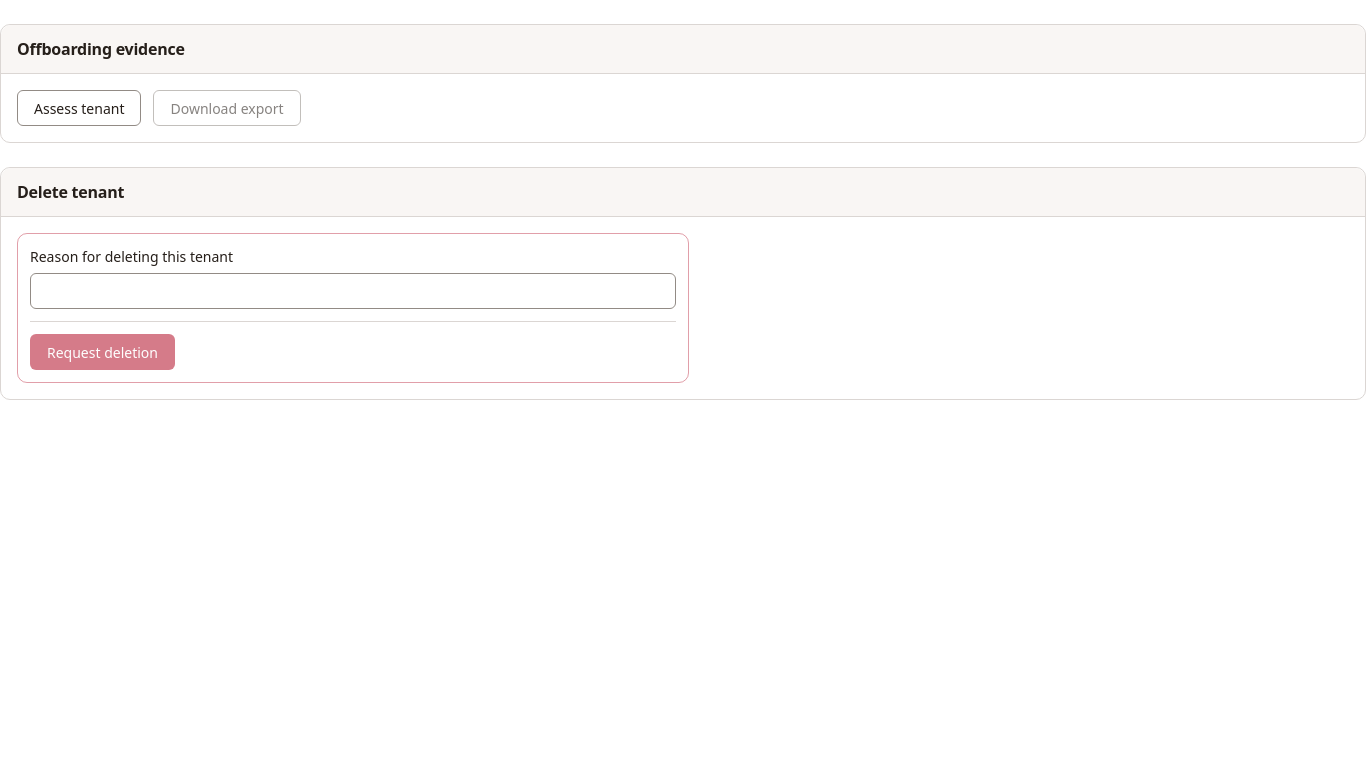
Test: TenantDeletionTab › offers a request only after an assessment, an export, and a substantive reason
The width and height of the screenshot is (1366, 768).
Expected: the button "Request deletion" is disabled, [30,334,175,370]
Click the button "Assess tenant" at (79,108), box [17,90,142,126]
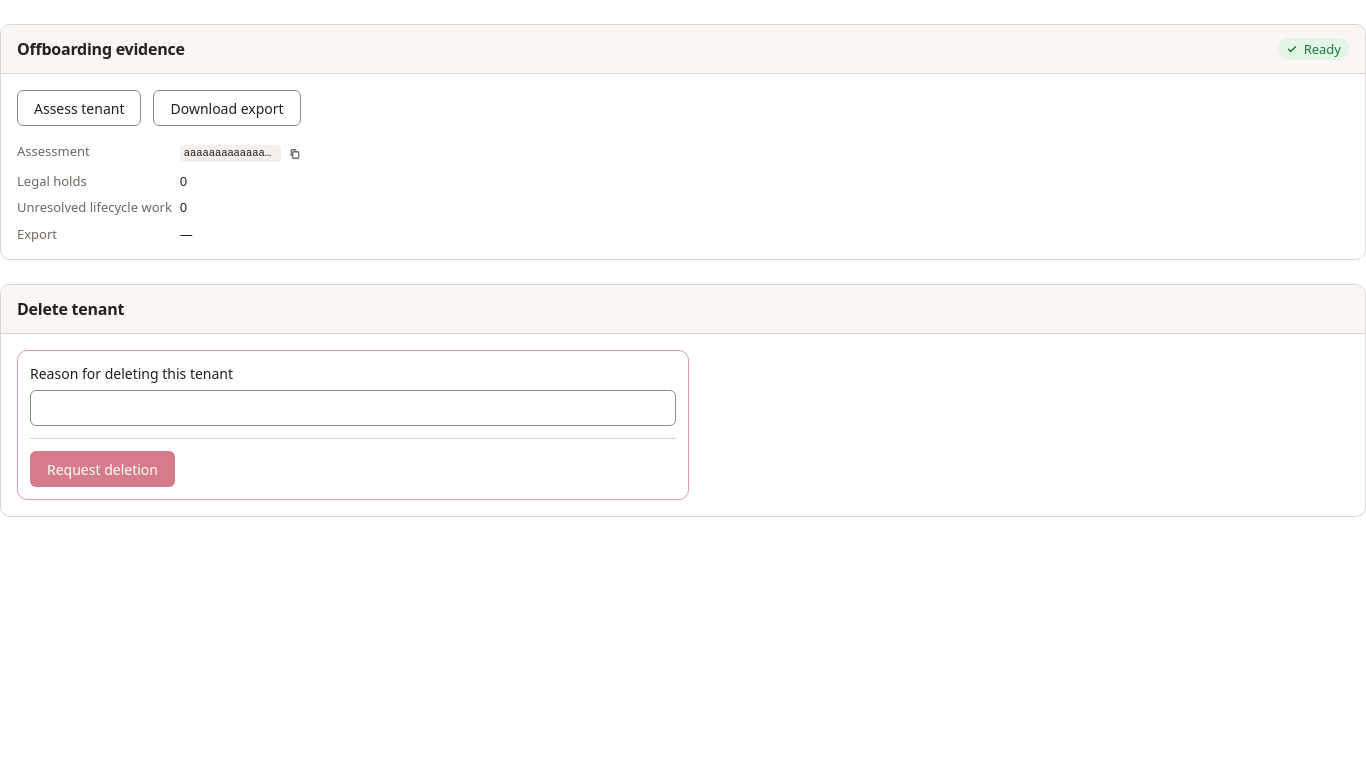
Now the text "Ready" is shown, box [1278,38,1349,60]
Click the button "Download export" at (227,108), box [154,90,301,126]
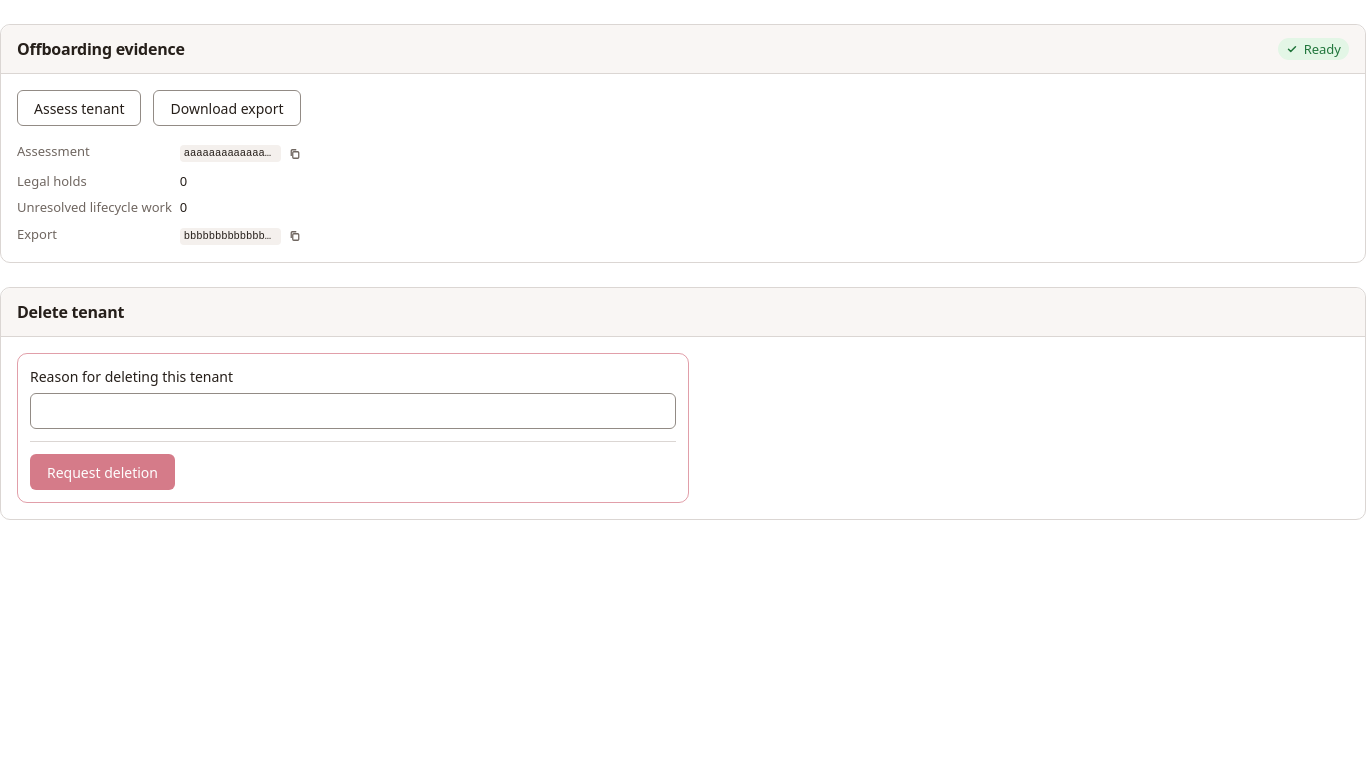
Type "too short" into the field labelled "Reason for deleting this tenant" at (353,411), box [30,393,676,429]
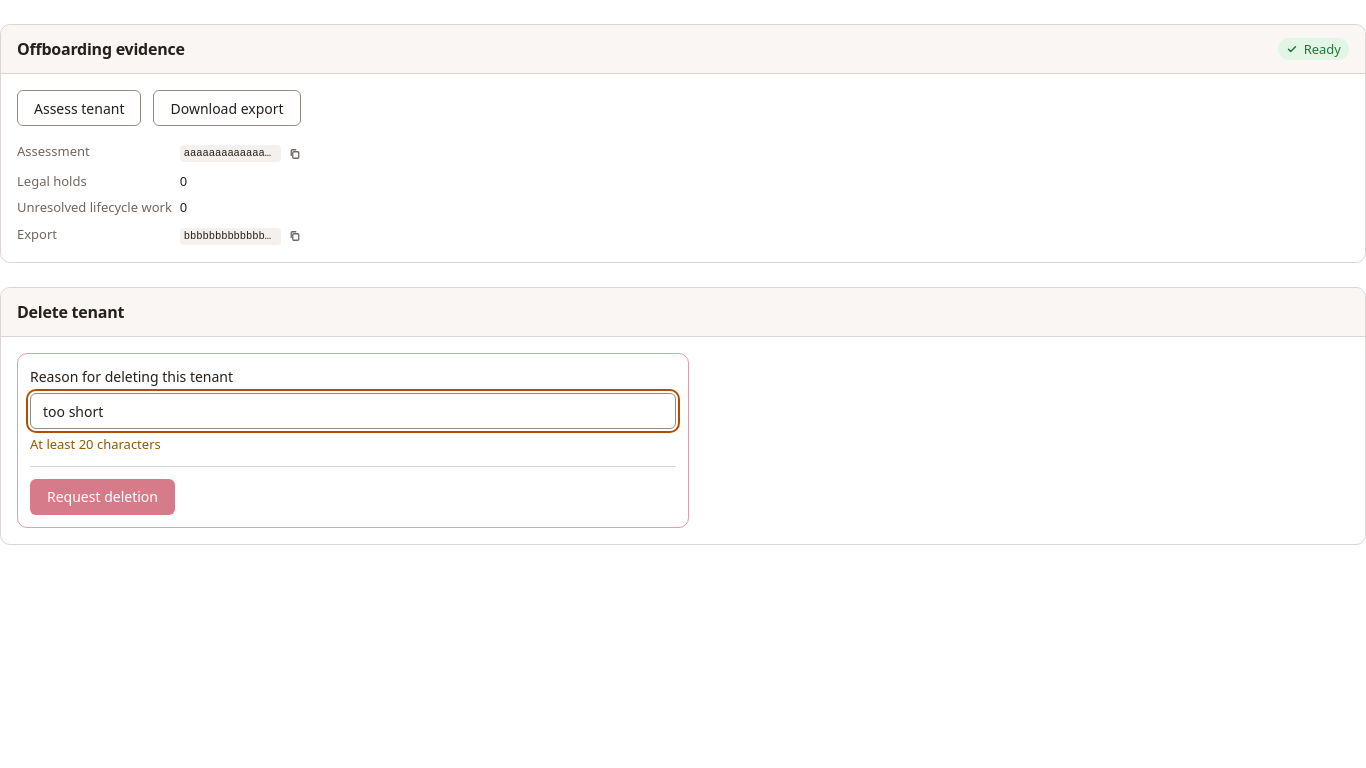
Expected: the button "Request deletion" is disabled, [30,479,175,515]
Type " - contract ended in full" into the field labelled "Reason for deleting this tenant" at (353,411), box [30,393,676,429]
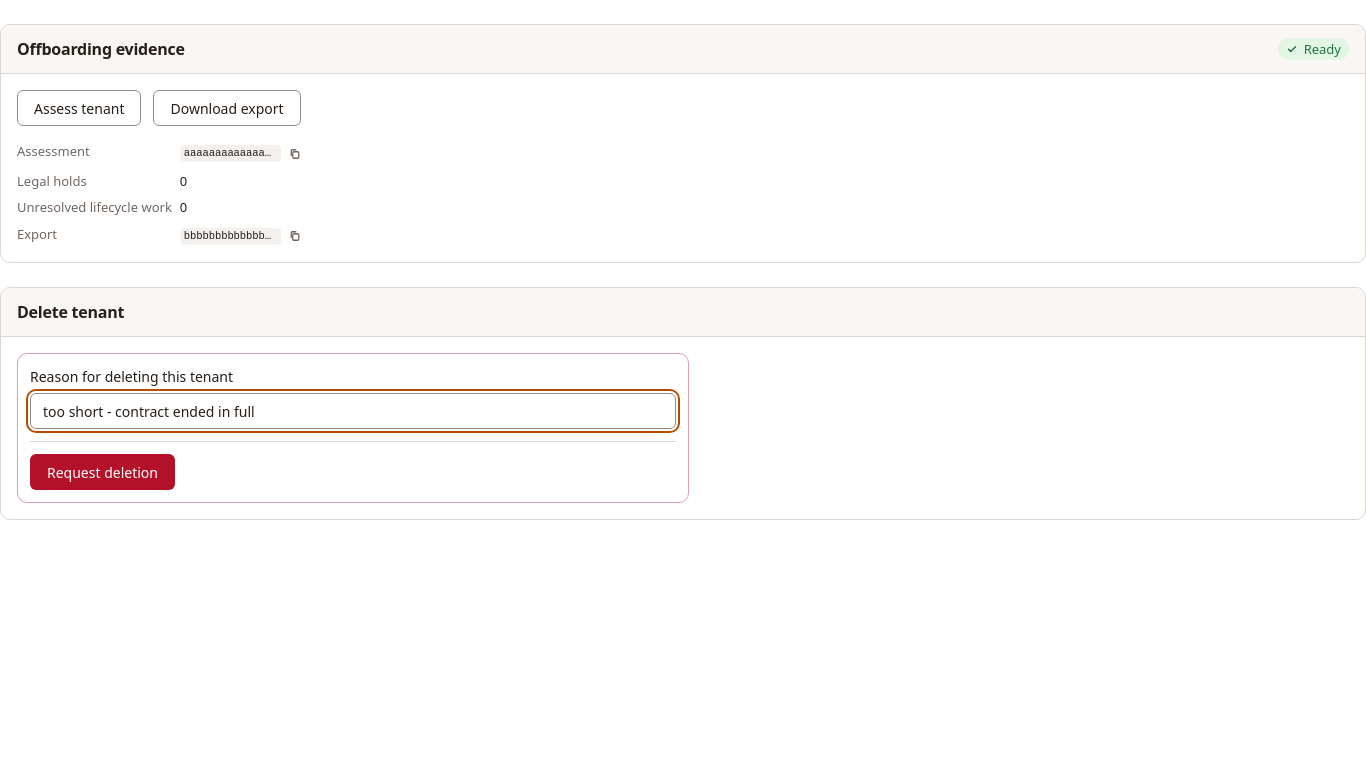
Now the button "Request deletion" is enabled
Click the button "Request deletion" at (102,472), box [30,454,175,490]
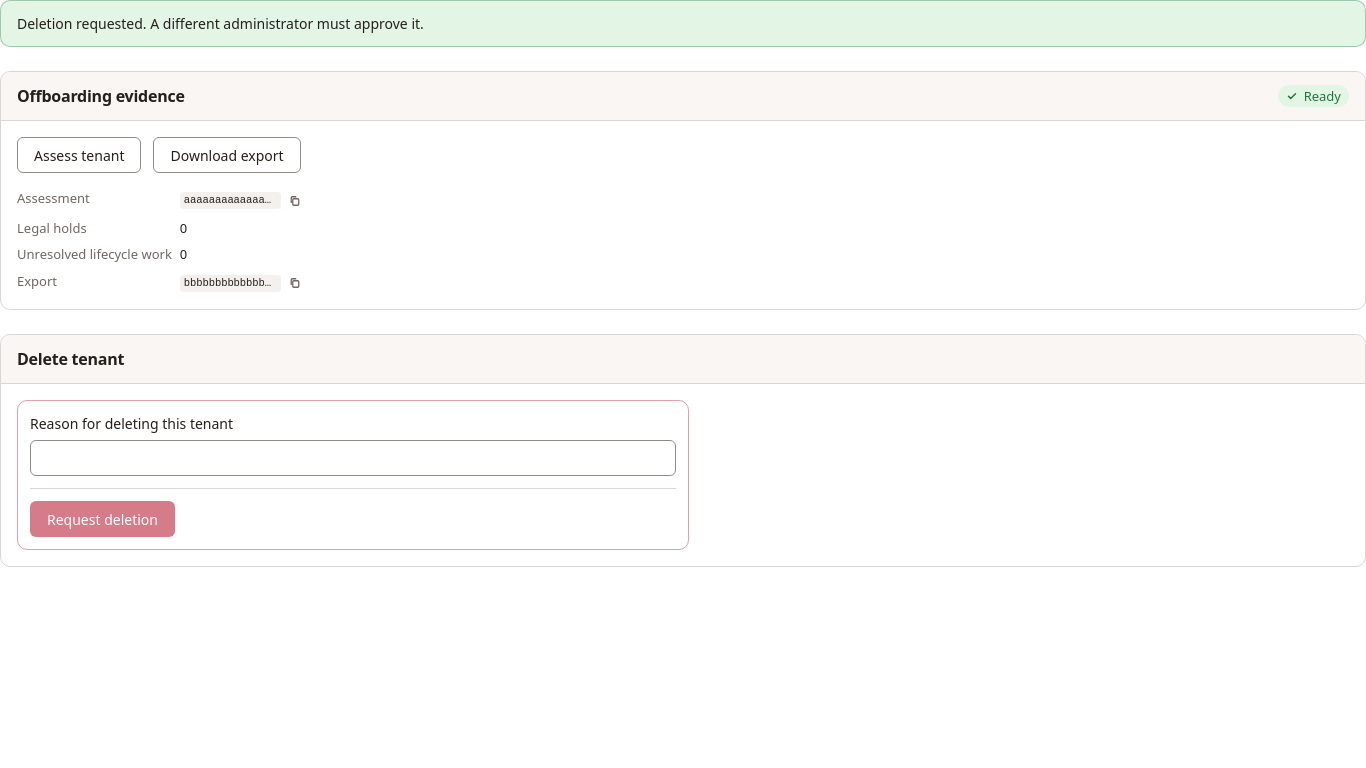
Now the text "different administrator must approve it" is shown, box [17,14,424,33]
